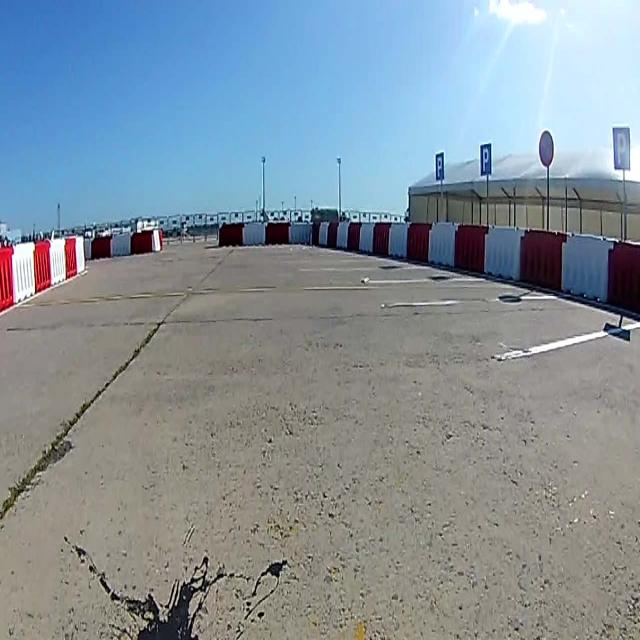park: (612, 125, 630, 171), (480, 143, 492, 176), (435, 152, 445, 180)
parkyasak: (538, 130, 554, 168)
